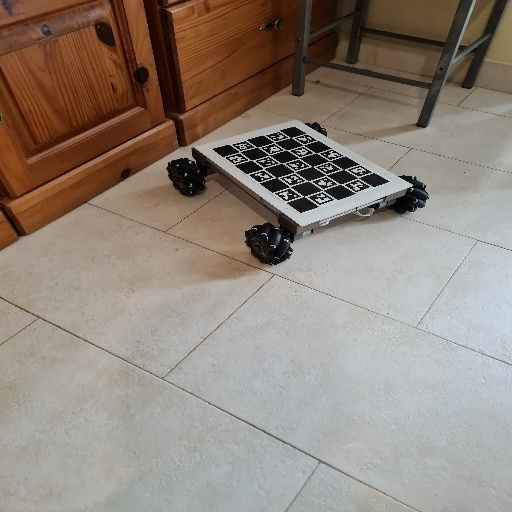Omniwheel: (165, 119, 429, 266)
